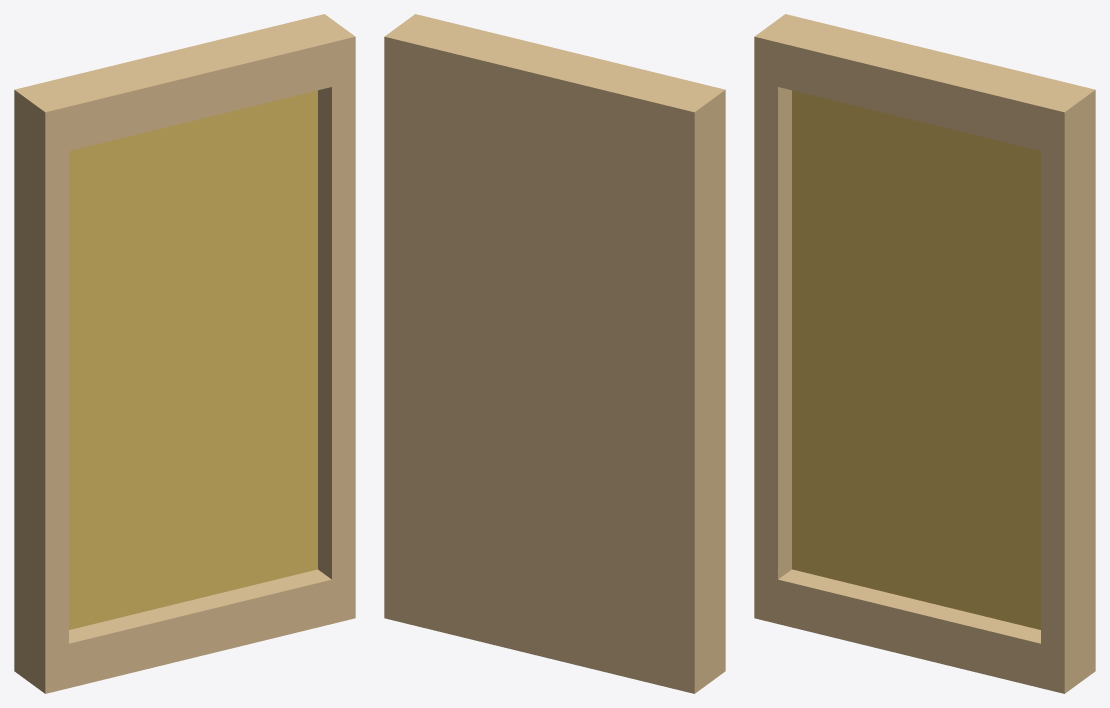
Rendered from frame.fbx.
The picture shows the model from 3 angles, left to right: view 1: azimuth 30°, elevation 25°; view 2: azimuth 150°, elevation 25°; view 3: azimuth 330°, elevation 25°; orthographic projection.
Visible parts, largest first — view 1: frame; view 2: frame; view 3: frame.
Part boxes in pixels (x1,y1,x2,y2): frame: (14,14,355,693); frame: (384,14,725,693); frame: (754,14,1095,693).
Size of the model in its own units: 112 by 200 by 19.31.
